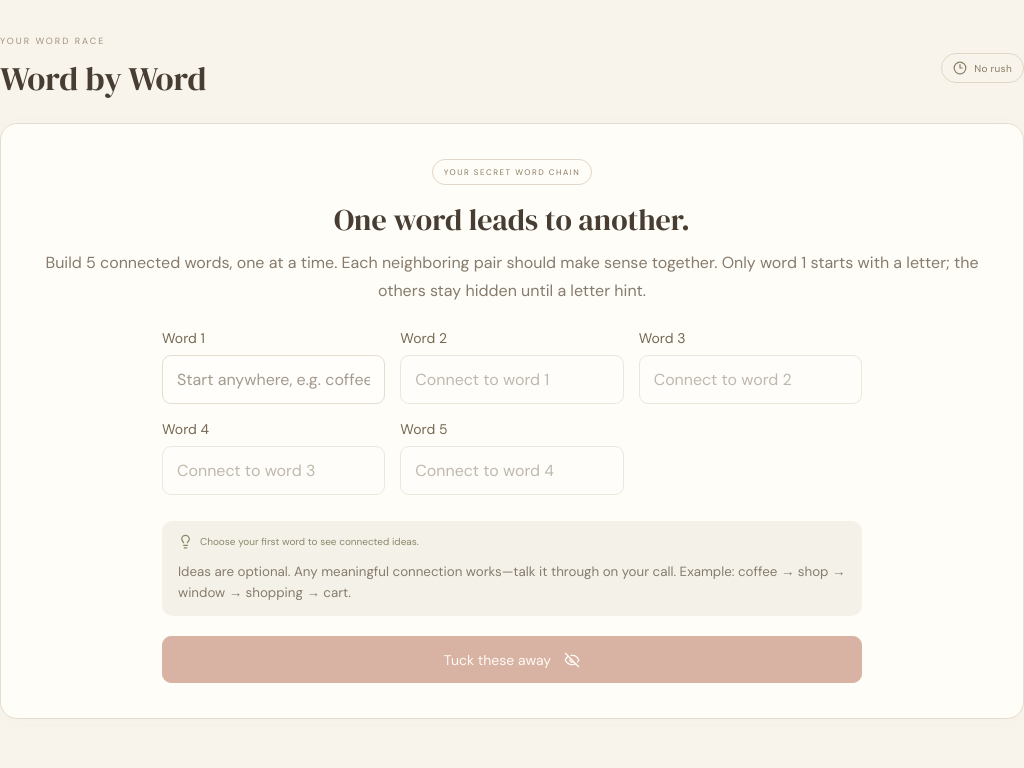
cozy home and game forms › labels fuzzy suggestions without rewriting the player's word
In the field labelled "Word 1": point(274, 379) [162,355,385,404], type "cofee"
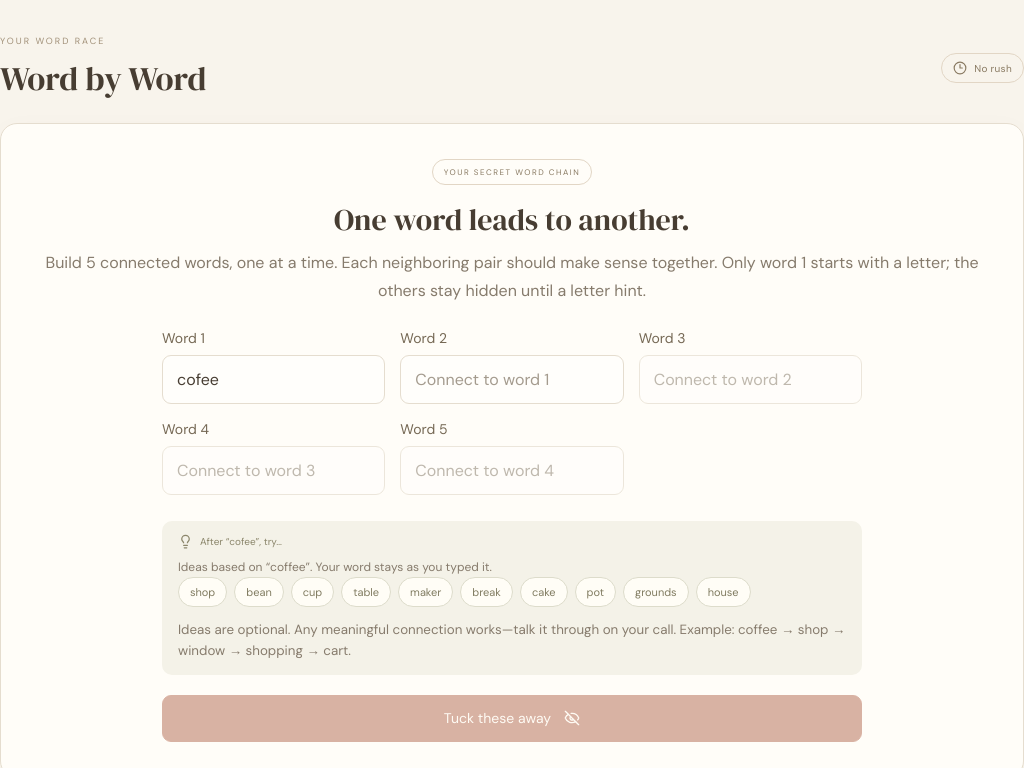
expect the text "Ideas based on “coffee”. Your word stays as you typed it." is shown: met, box [178,559,492,575]
Click the button "shop": point(203, 592) [178,577,227,607]
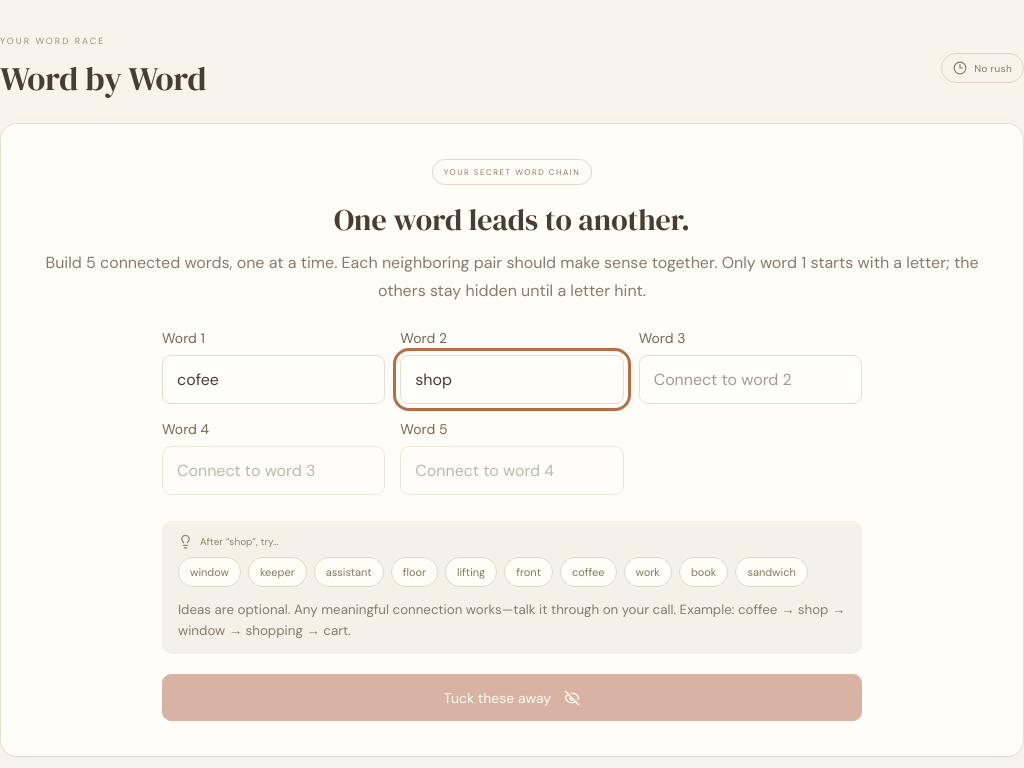
expect the field labelled "Word 2" holds "shop": met, box [400,355,624,404]
